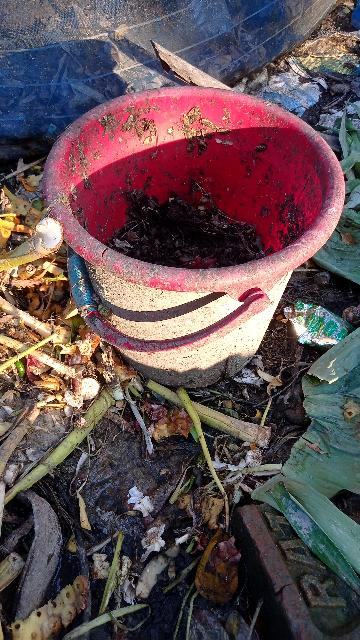hardplastic: (41, 95, 331, 387)
